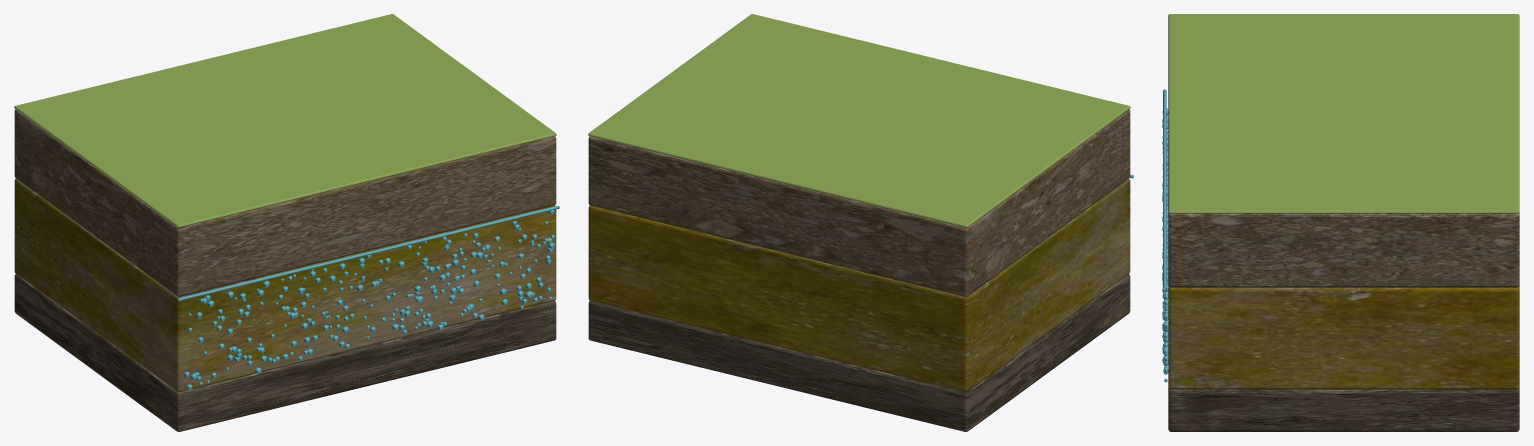
The model's file is groundwater.glb.
3 renders of one model, left to right at view 1: azimuth 30°, elevation 25°; view 2: azimuth 150°, elevation 25°; view 3: azimuth 270°, elevation 25°, orthographic. The views are drawn at different scales.
Visible parts, largest first — view 1: Surface, Layer_Saturated, Layer_Unsaturated, Layer_LowPermeability, Water_In_Pores, Water_Table_Boundary; view 2: Surface, Layer_Saturated, Layer_Unsaturated, Layer_LowPermeability; view 3: Surface, Layer_Saturated, Layer_Unsaturated, Layer_LowPermeability, Water_In_Pores, Water_Table_Boundary.
Part boxes in pixels (left/top/right/bottom): Surface: left=14, top=14, right=556, bottom=227; Layer_Saturated: left=14, top=179, right=556, bottom=392; Layer_Unsaturated: left=14, top=109, right=556, bottom=296; Layer_LowPermeability: left=14, top=274, right=556, bottom=431; Water_In_Pores: left=184, top=210, right=554, bottom=389; Water_Table_Boundary: left=178, top=205, right=559, bottom=300; Surface: left=588, top=14, right=1130, bottom=227; Layer_Saturated: left=588, top=179, right=1130, bottom=392; Layer_Unsaturated: left=588, top=109, right=1130, bottom=296; Layer_LowPermeability: left=588, top=274, right=1130, bottom=431; Surface: left=1168, top=14, right=1519, bottom=213; Layer_Saturated: left=1168, top=285, right=1519, bottom=389; Layer_Unsaturated: left=1168, top=213, right=1519, bottom=287; Layer_LowPermeability: left=1168, top=387, right=1519, bottom=431; Water_In_Pores: left=1162, top=108, right=1168, bottom=382; Water_Table_Boundary: left=1163, top=89, right=1166, bottom=289.
Size of the model in its own units: 4 by 2.09 by 3.05.
Materials: 5 (3 with a texture image).
